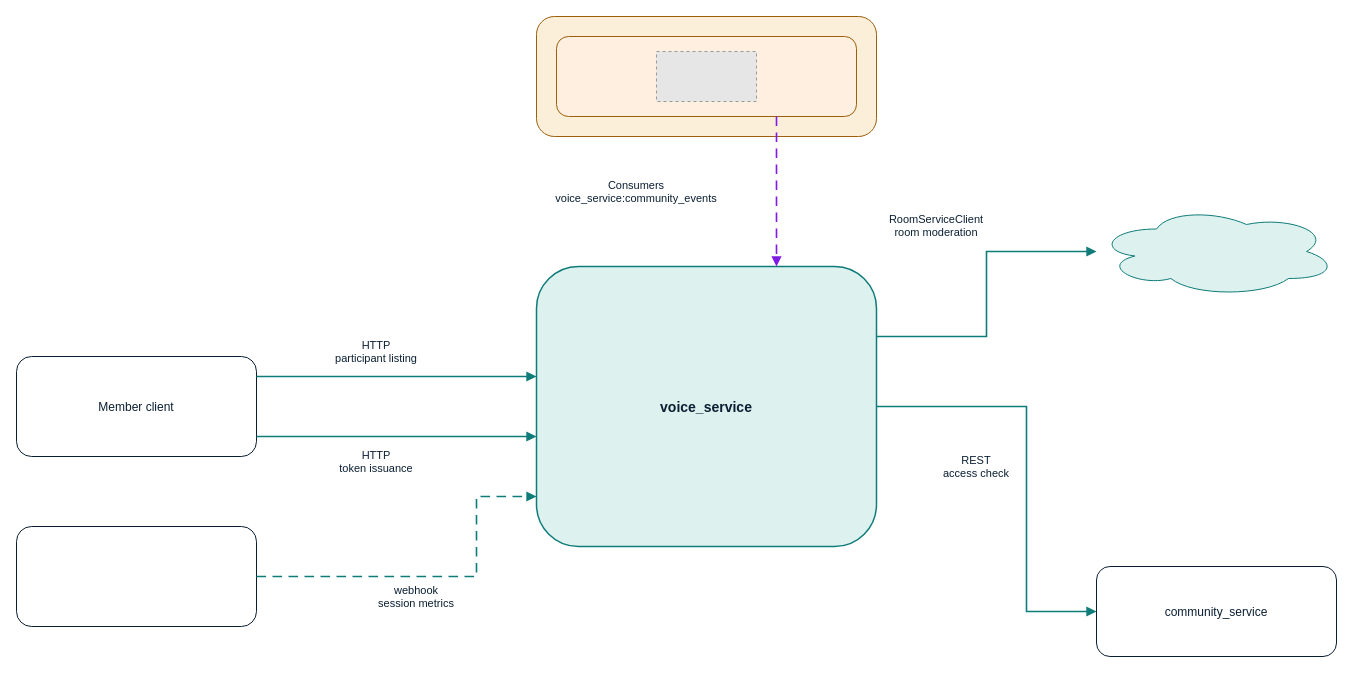
Some shapes in this 1353 by 673 pixel diagram are drawn without their labels. Grey dashed boxes stand in for pictures. The centre of each missing label's shape, as x and y in pixels:
LiveKit Cloud: the point at 1216,251
LiveKit Cloud webhooks: the point at 136,576
